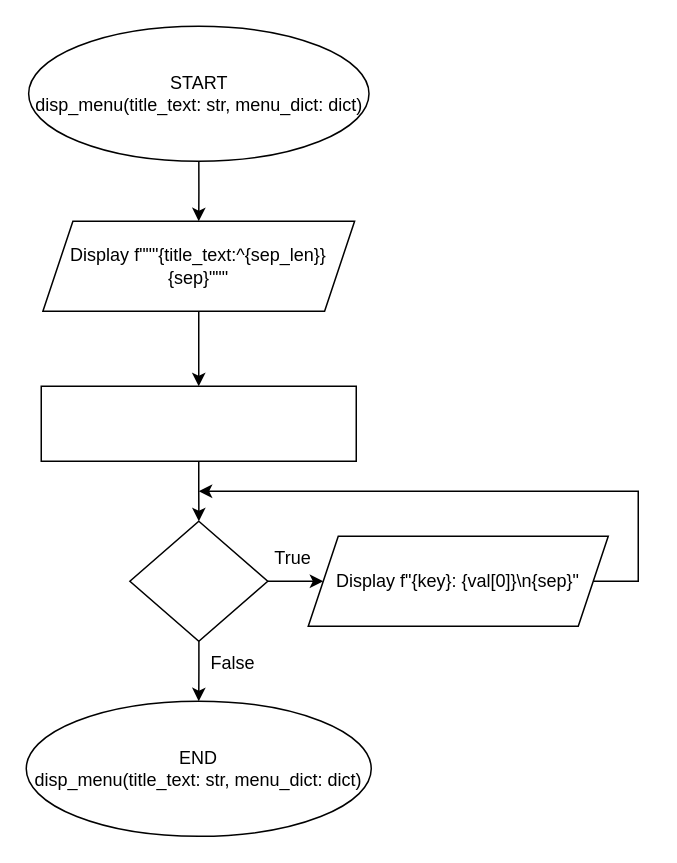
Some shapes in this 677 by 863 pixel diagram are drawn without their labels. The box of each missing label's shape, as (x1, y1, x2, y2) in pixels:
for each key, val in menu_dict.items(): (40, 385, 356, 461)
key, val in sequence ?: (128, 520, 268, 641)
